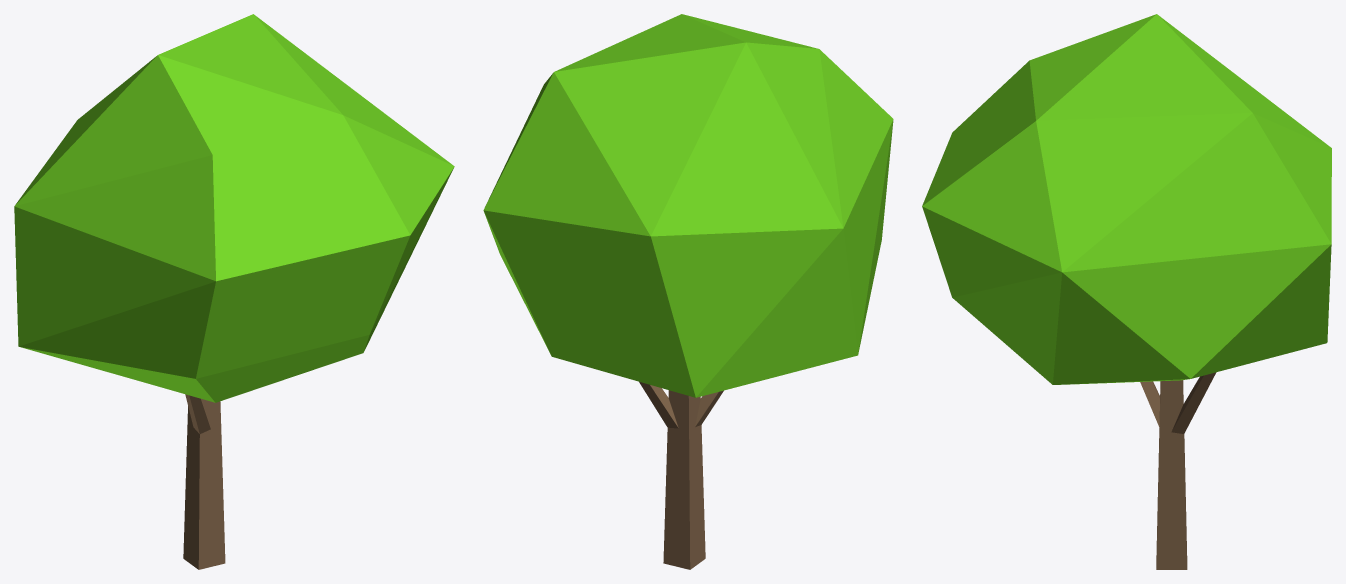
Rendered from Tree_02.fbx.
The picture shows the model from 3 angles, left to right: view 1: azimuth 30°, elevation 25°; view 2: azimuth 150°, elevation 25°; view 3: azimuth 270°, elevation 25°; orthographic projection.
Parts seen in each view (by area): view 1: Tree_02; view 2: Tree_02; view 3: Tree_02.
Boxes of the visible parts, x1,y1,x2,y2 form: Tree_02: (14, 14, 454, 569); Tree_02: (483, 14, 893, 569); Tree_02: (922, 14, 1331, 569).
Size of the model in its own units: 270 by 361 by 256.
